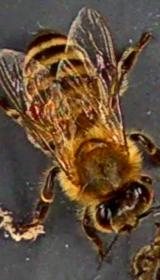varroa_mite: (16, 94, 52, 125)
